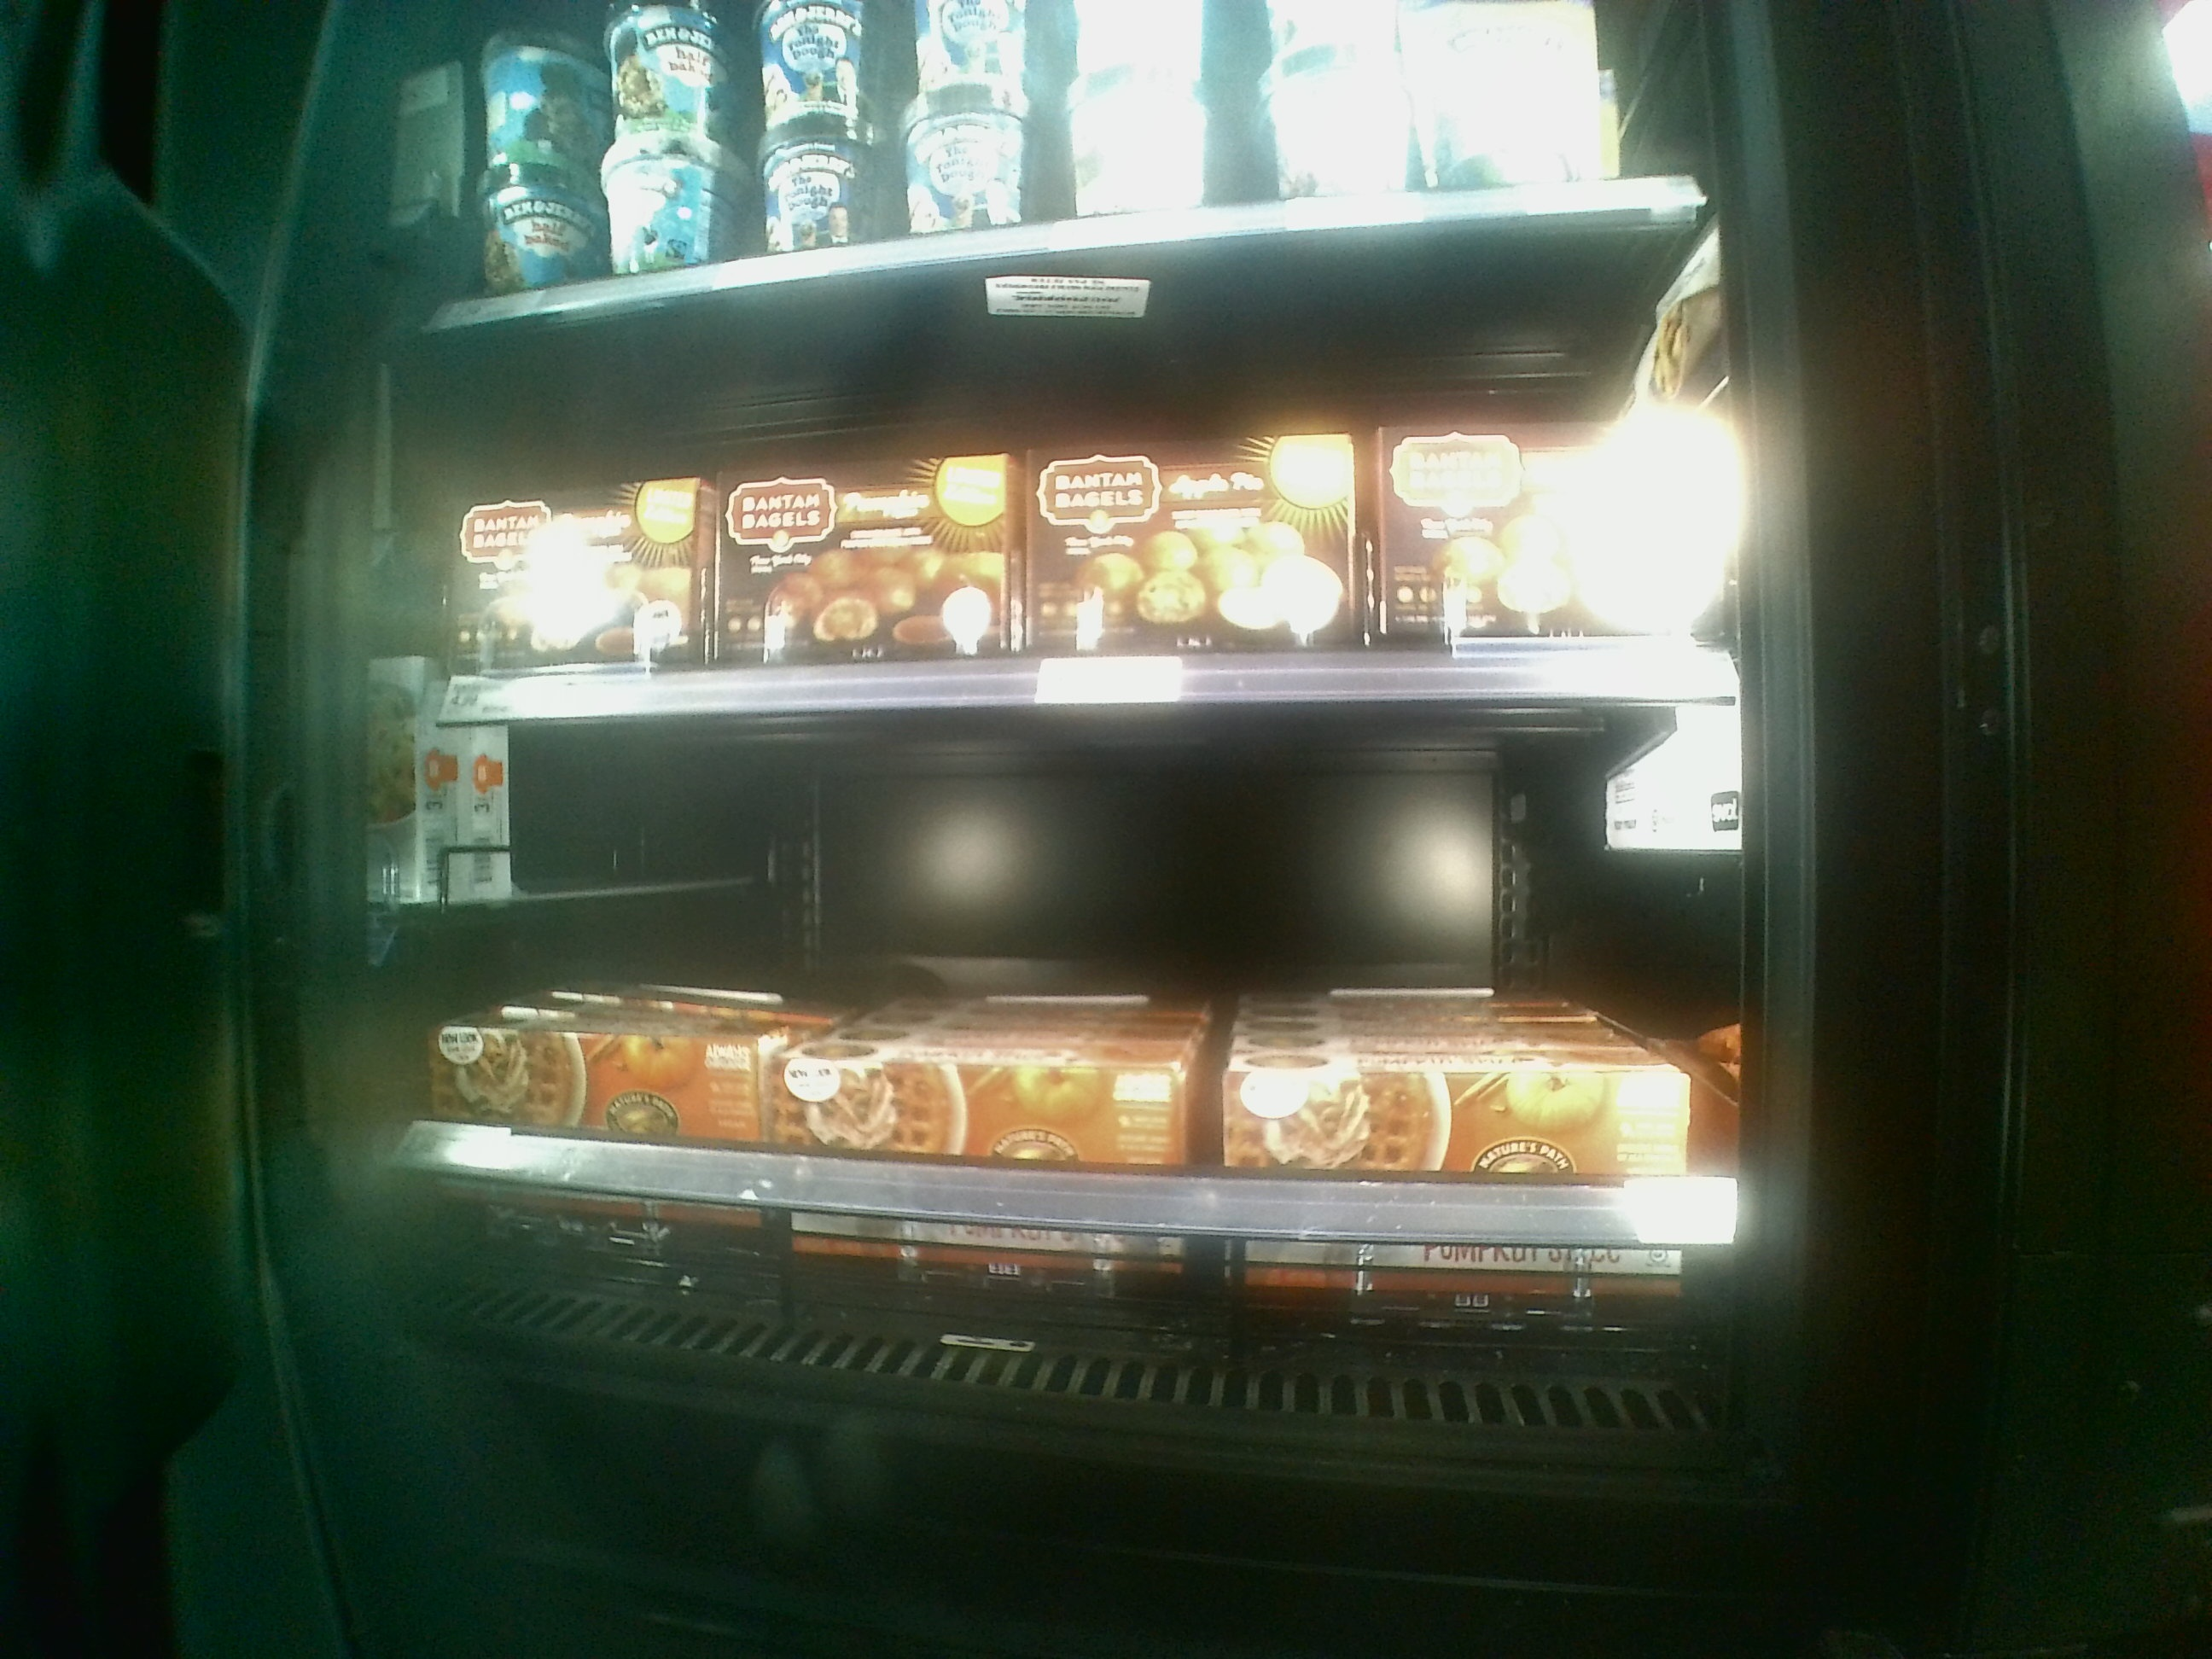shelf: (333, 711, 1754, 1471), (338, 329, 1749, 708)
